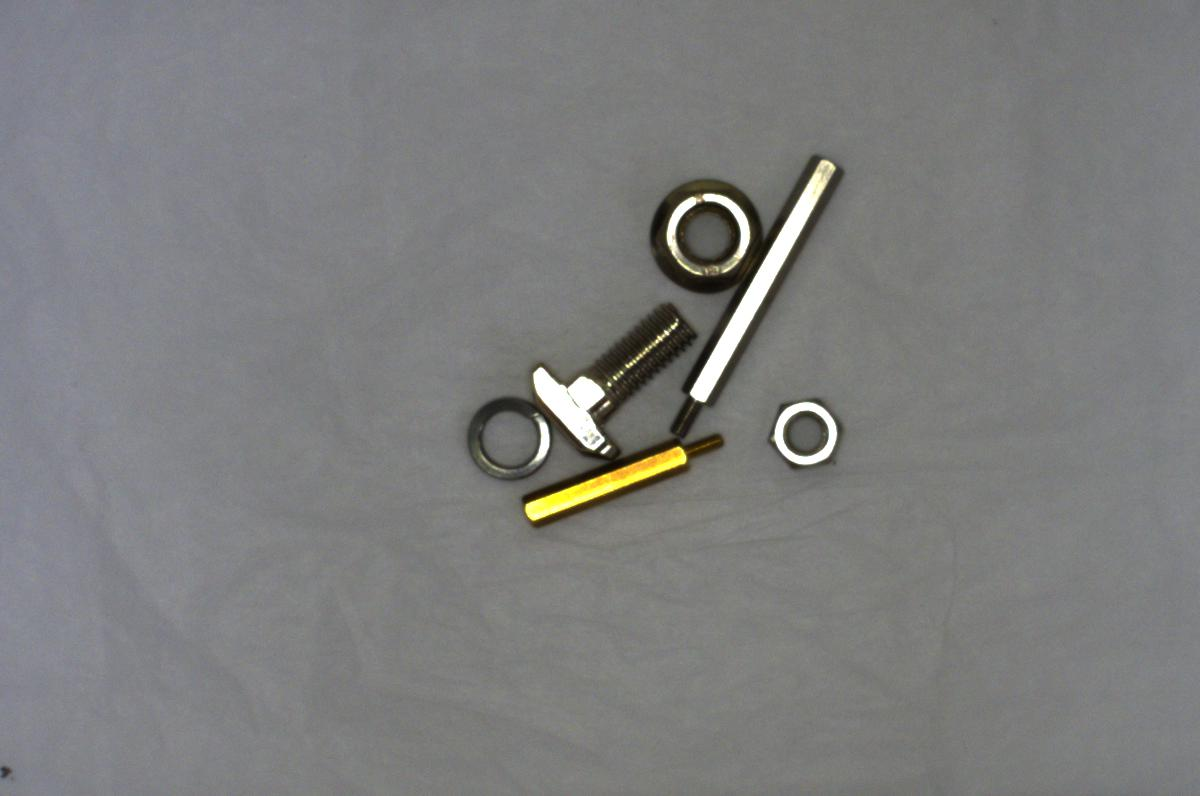Flange nut: (643, 160, 766, 290)
Hexagon nut: (753, 394, 852, 469)
Hexagon pillar: (521, 421, 729, 528)
Hexagonal steel column: (669, 155, 841, 436)
Spring washer: (458, 392, 560, 483)
T-shaped screw: (529, 295, 693, 459)
